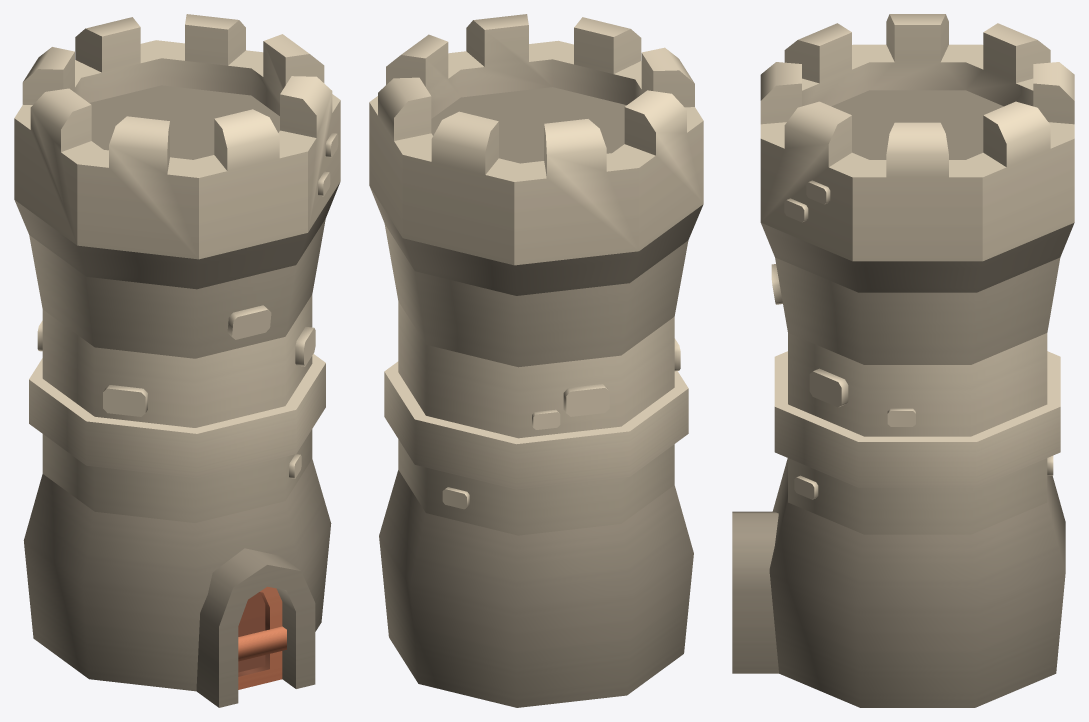
Rendered from lamplight-keep.glb.
The picture shows the model from 3 angles, left to right: view 1: azimuth 30°, elevation 25°; view 2: azimuth 150°, elevation 25°; view 3: azimuth 270°, elevation 25°; orthographic projection. The views are drawn at different scales.
Parts seen in each view (by area): view 1: tower-complete-small; view 2: tower-complete-small; view 3: tower-complete-small.
Part boxes in pixels (<box>): tower-complete-small: <box>14,14,340,707</box>; tower-complete-small: <box>369,14,703,707</box>; tower-complete-small: <box>732,14,1074,707</box>.
Bounding box in the file's own units: 3.35 × 6.78 × 3.66.
1 material, 1 textured.
